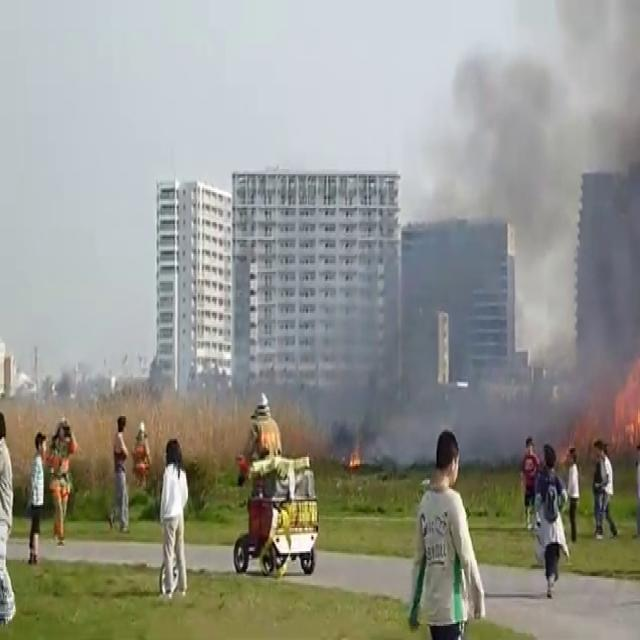Fire: (611, 364, 640, 450)
Smoke: (340, 2, 640, 430)
